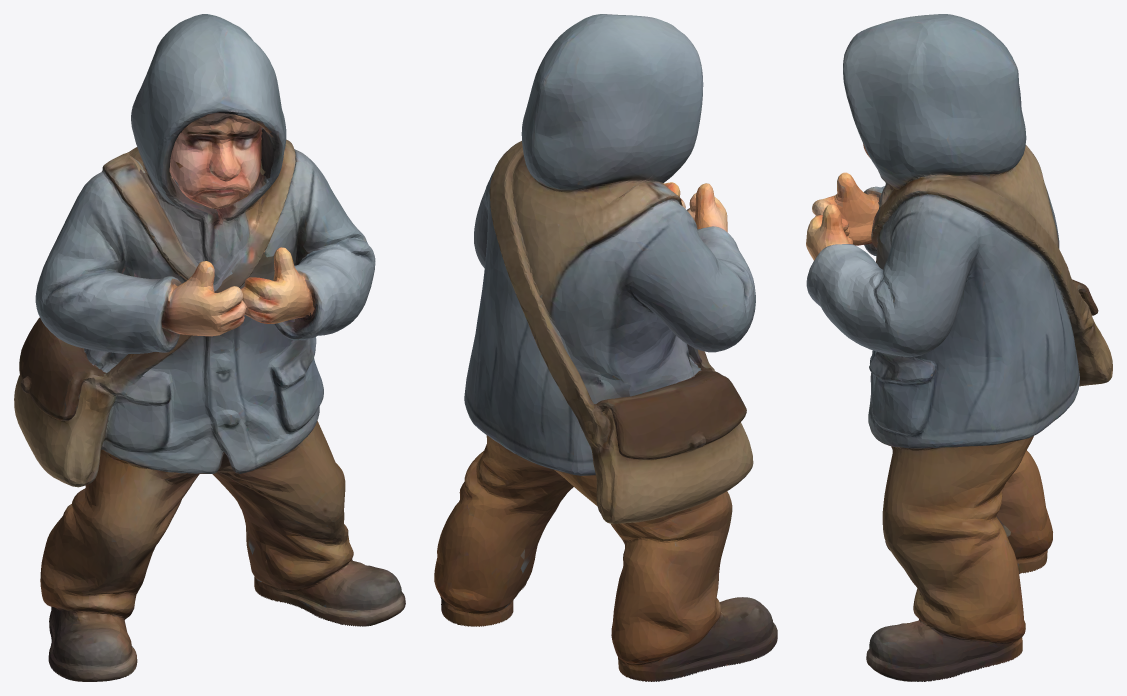
File: civilian-a.glb
3 renders of one model, left to right at view 1: azimuth 30°, elevation 25°; view 2: azimuth 150°, elevation 25°; view 3: azimuth 270°, elevation 25°, orthographic. The views are drawn at different scales.
Parts seen in each view (by area): view 1: figure; view 2: figure; view 3: figure.
Part boxes in pixels (x1,y1,x2,y2): figure: [14, 14, 405, 681]; figure: [434, 14, 777, 681]; figure: [806, 14, 1112, 681].
Size of the model in its own units: 0.9765 by 1.7 by 0.81.
Materials: 1 (1 with a texture image).
